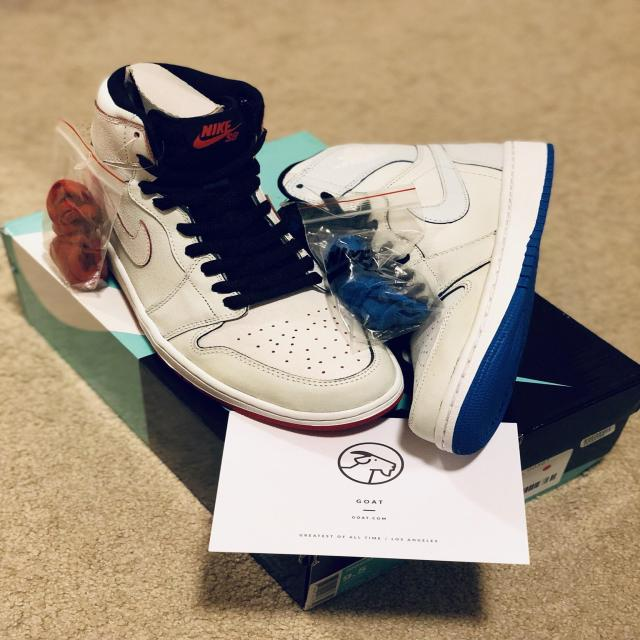shoes: (55, 50, 415, 452), (282, 130, 580, 489)
